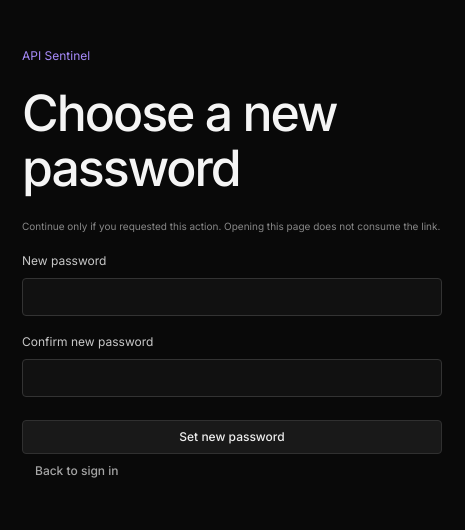
requires matching reset passwords before making a request
The width and height of the screenshot is (465, 530).
Type "long enough password 123" into the password field labelled "New password" at (232, 297), box [22,278,442,316]
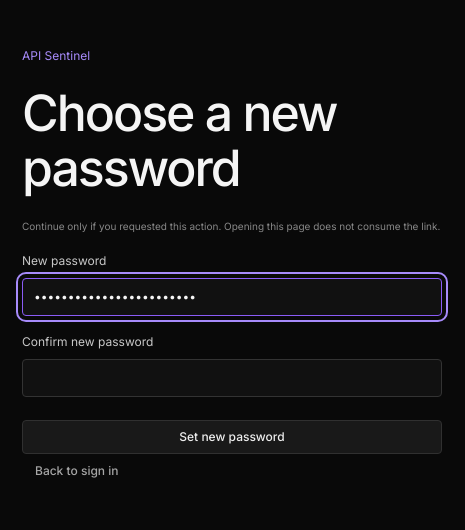
Type "does not match" into the password field labelled "Confirm new password" at (232, 378), box [22,359,442,397]
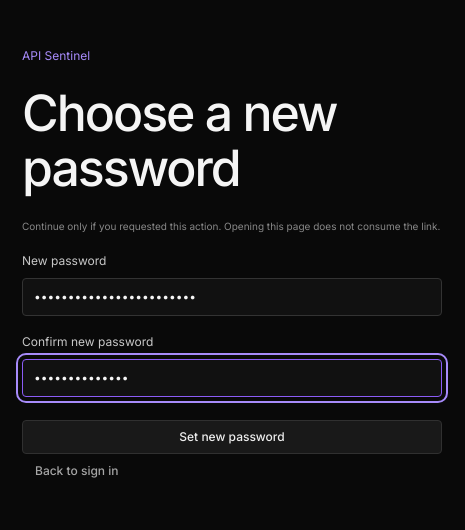
Click the button "Set new password" at (232, 437), box [22,420,442,454]
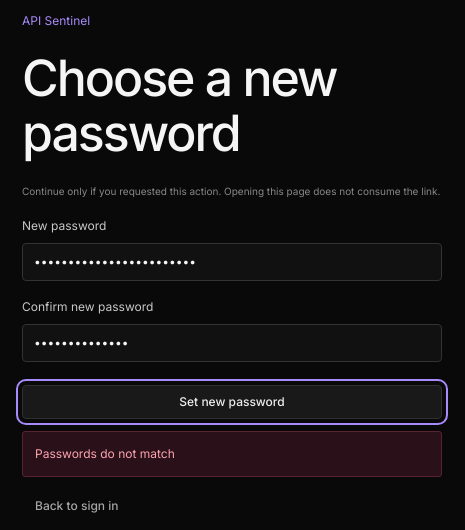
Expected: the message reads "Passwords do not match", [35,446,175,461]
